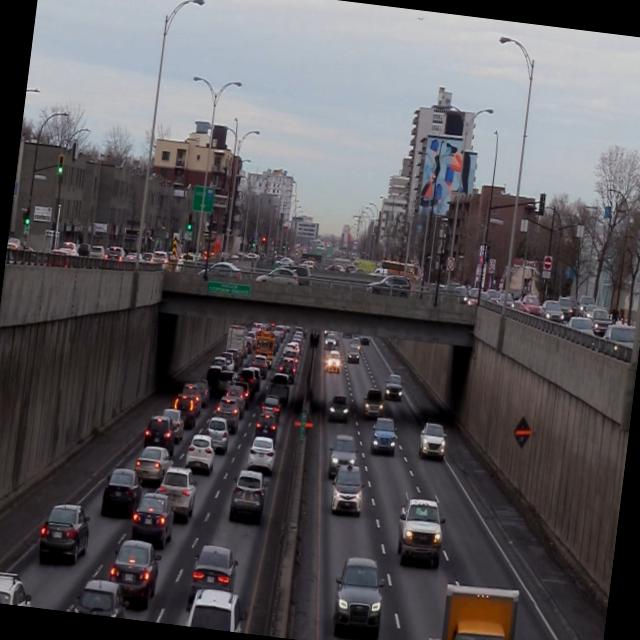Vehicle: (327, 552, 387, 640), (184, 539, 239, 611), (106, 538, 163, 607), (394, 496, 446, 568), (36, 498, 91, 566), (128, 490, 174, 544), (153, 464, 197, 520), (227, 468, 269, 525), (98, 466, 141, 520), (330, 458, 366, 518), (140, 411, 178, 454), (134, 444, 168, 486), (326, 433, 356, 480), (367, 416, 397, 458), (182, 434, 215, 471), (244, 434, 276, 472), (416, 422, 446, 462), (202, 417, 230, 454), (359, 386, 384, 421), (326, 394, 350, 424), (383, 373, 403, 401)
